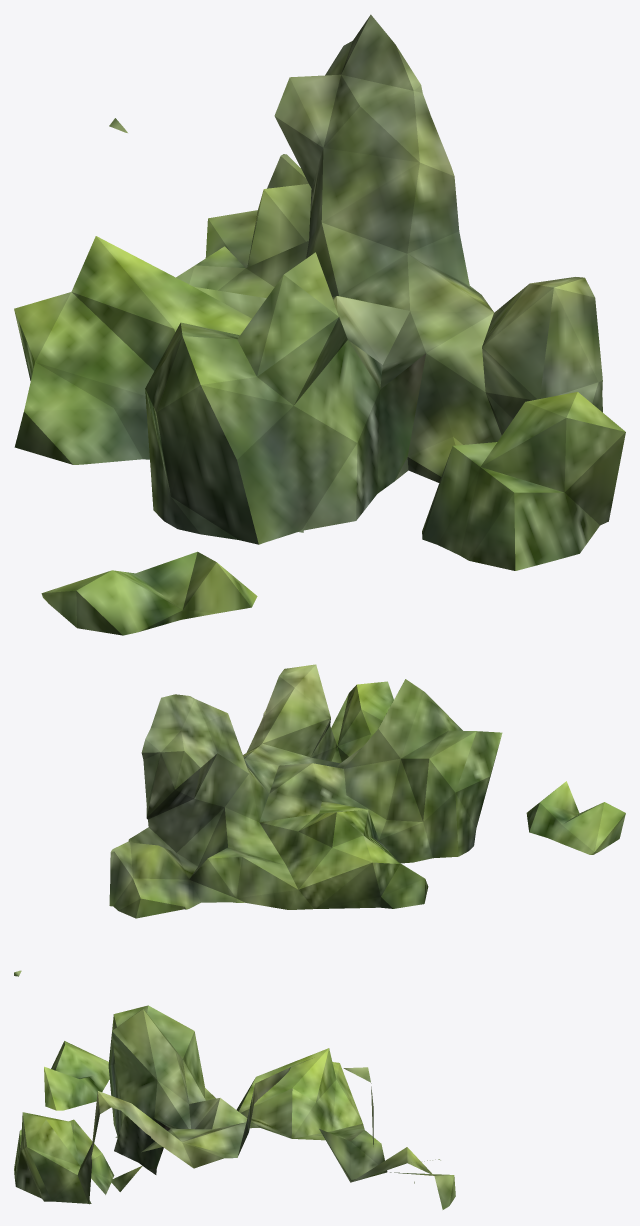
3 views of the same model, one above another, from view 1: azimuth 30°, elevation 25°; view 2: azimuth 150°, elevation 25°; view 3: azimuth 270°, elevation 25° (orthographic). The views are drawn at different scales.
Size of the model in its own units: 7.72 by 3.97 by 13.54.
1 material, 1 textured.
